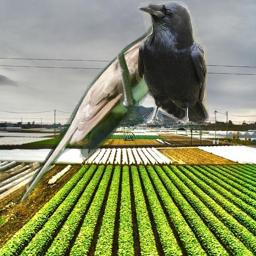Crow: (136, 1, 209, 125)
Cuckoo: (17, 21, 191, 206)
